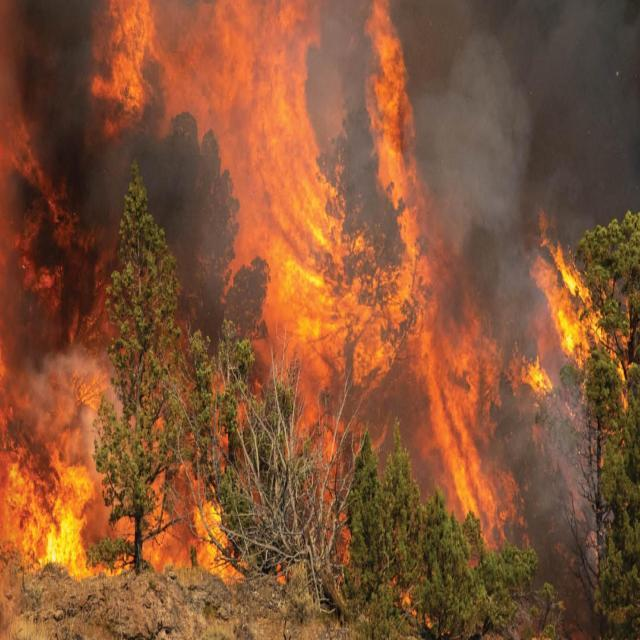Fire: (0, 0, 385, 412), (360, 0, 536, 578), (0, 369, 132, 583), (528, 200, 636, 419), (191, 471, 245, 590), (503, 340, 560, 403)
Smoke: (395, 21, 535, 270), (19, 343, 132, 481), (490, 234, 555, 363)
